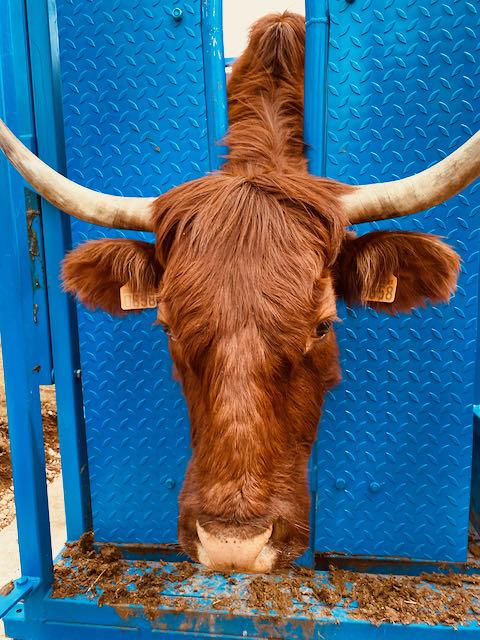muzzles: (179, 516, 295, 579)
